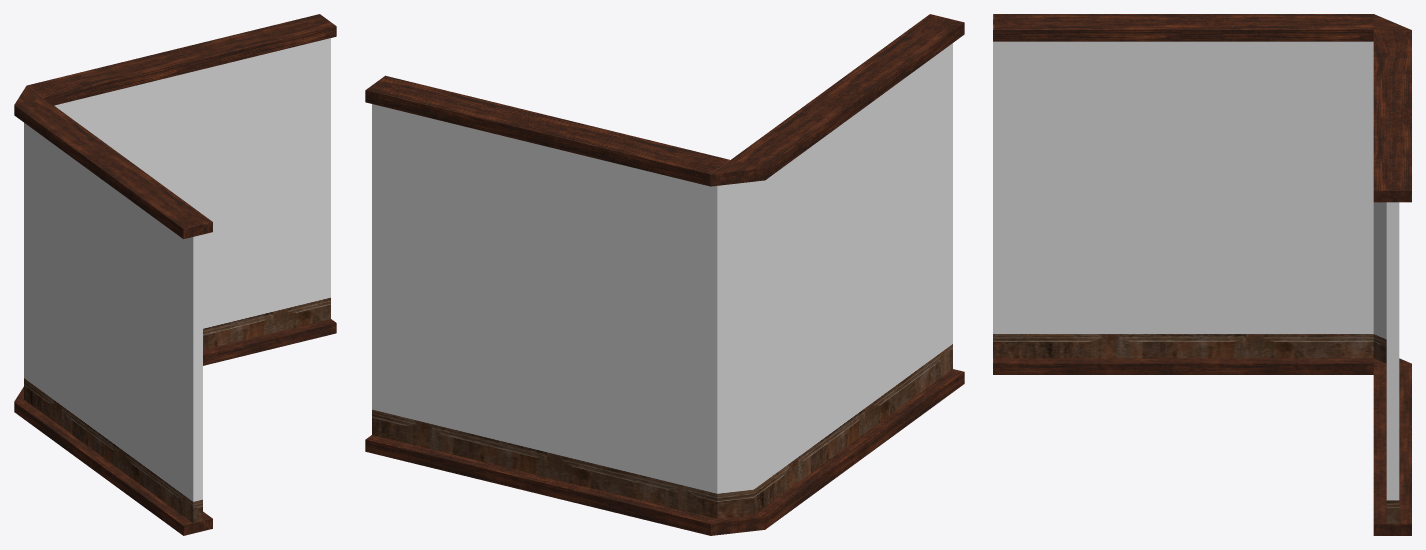
The model's file is Corner1 1.fbx.
The picture shows the model from 3 angles, left to right: view 1: azimuth 30°, elevation 25°; view 2: azimuth 150°, elevation 25°; view 3: azimuth 270°, elevation 25°; orthographic projection. The views are drawn at different scales.
Parts seen in each view (by area): view 1: polySurface72; view 2: polySurface72; view 3: polySurface72.
Part boxes in pixels (x1,y1,x2,y2): polySurface72: [14, 14, 336, 535]; polySurface72: [365, 14, 964, 535]; polySurface72: [993, 14, 1411, 535].
Bounding box in the file's own units: 330 × 300 × 330.
